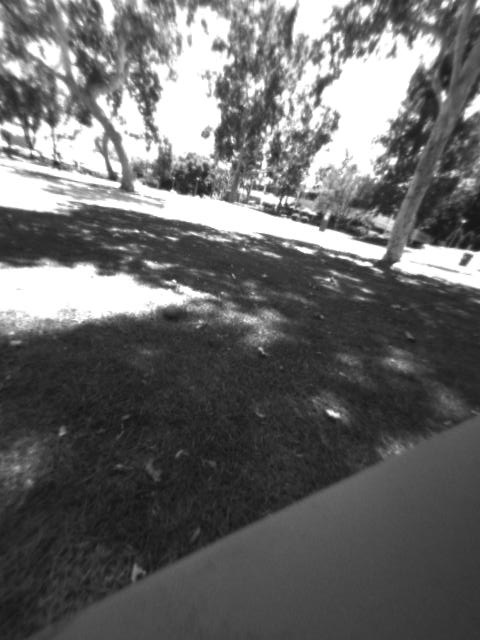dogtoy: (154, 297, 188, 326)
